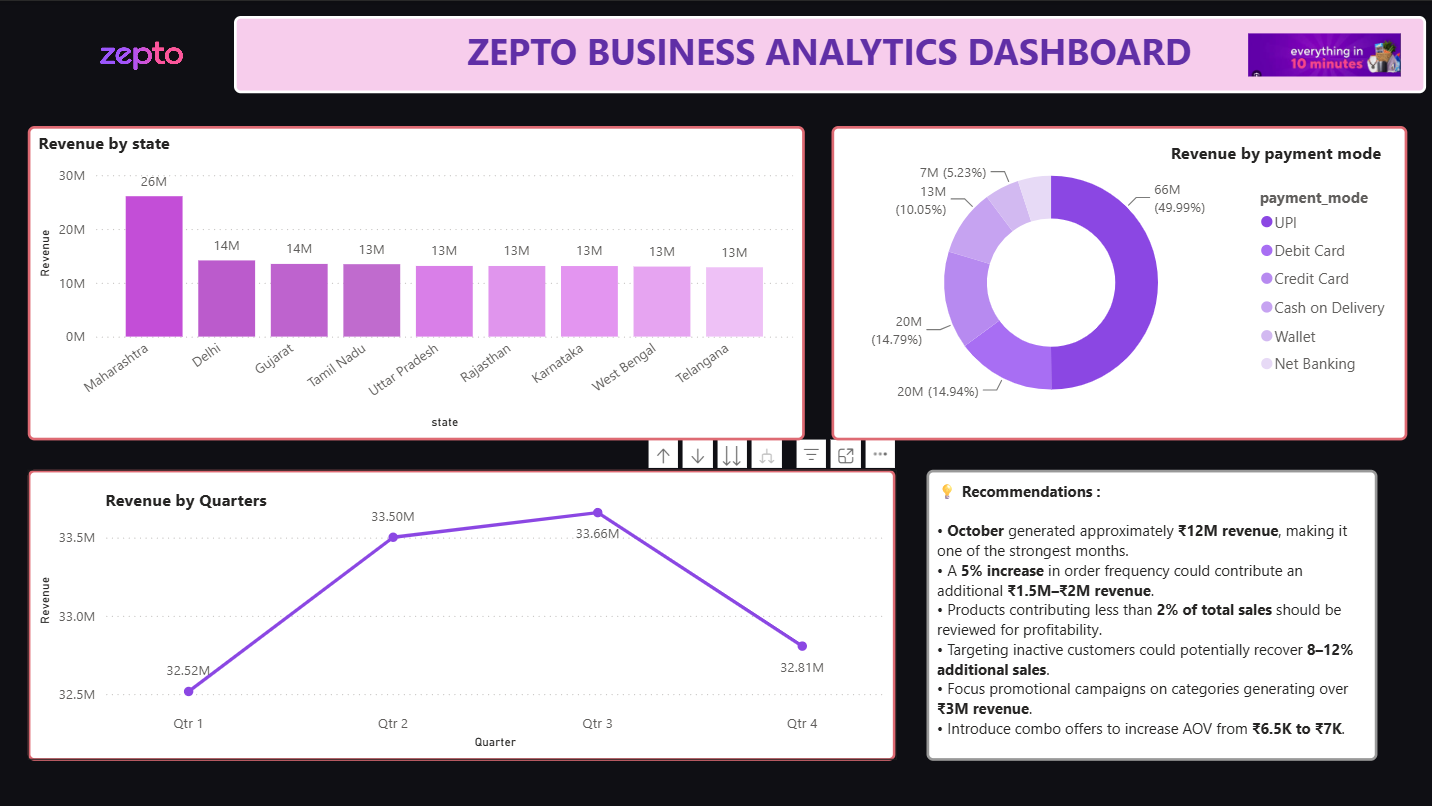

What the dashboard file says about the page in this screenshot:
{"tool":"powerbi","page":{"name":"Sales Analysis","canvas":[1280,720],"ordinal":1},"visuals":[{"type":"textbox","box":[209.8,13.5,1061.4,68.7],"z":0},{"type":"image","box":[0,0,251.5,103],"z":1000},{"type":"lineChart","fields":{"Category":["order_Sheet.order_date.Variation.Date Hierarchy.Year","order_Sheet.order_date.Variation.Date Hierarchy.Quarter","order_Sheet.order_date.Variation.Date Hierarchy.Month","order_Sheet.order_date.Variation.Date Hierarchy.Day"],"Y":["customer_Sheet.Revenue"]},"box":[25.8,417.2,773,258.9],"z":2000},{"type":"donutChart","fields":{"Y":["customer_Sheet.Revenue"],"Category":["transaction_Sheet.payment_mode"]},"box":[741.1,111.7,512.9,279.8],"z":3000},{"type":"clusteredColumnChart","fields":{"Category":["customer_Sheet.state"],"Y":["customer_Sheet.Revenue"]},"box":[25.8,111.7,692,279.8],"z":4000},{"type":"textbox","box":[825.8,417.2,401.2,258.9],"z":5000},{"type":"textbox","box":[1027,120.2,219.6,34.4],"z":6000},{"type":"textbox","box":[81,428.2,170.6,33.1],"z":7000},{"type":"image","box":[1108,19.6,146,56.4],"z":8000}]}

Visuals, with their boxes in screenshot pixels (x1, y1, x2, y2), scaled from the page's 1280x720 canvas onto the 1432x806 screenshot:
textbox: detection(235, 15, 1422, 92)
image: detection(0, 0, 281, 115)
lineChart - order_Sheet.order_date.Variation.Date Hierarchy.Year x order_Sheet.order_date.Variation.Date Hierarchy.Quarter: detection(29, 467, 894, 757)
donutChart - customer_Sheet.Revenue x transaction_Sheet.payment_mode: detection(829, 125, 1403, 438)
clusteredColumnChart - customer_Sheet.state x customer_Sheet.Revenue: detection(29, 125, 803, 438)
textbox: detection(924, 467, 1373, 757)
textbox: detection(1149, 135, 1395, 173)
textbox: detection(91, 479, 281, 516)
image: detection(1240, 22, 1403, 85)
